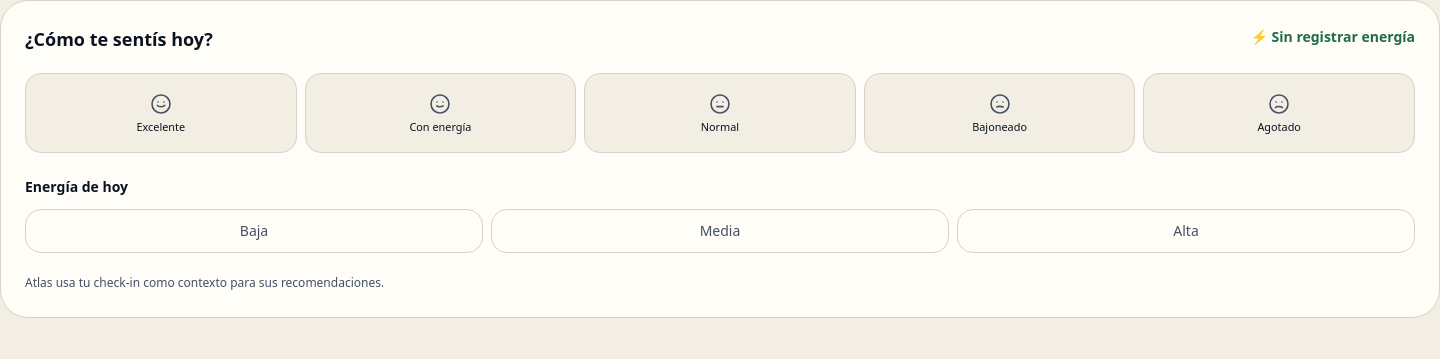
it: MoodEnergyCheckIn › does not fabricate a mood when energy is tapped first
Click the button with aria-label "Seleccionar energía Media" at x=720, y=231, box [491,209,949,253]
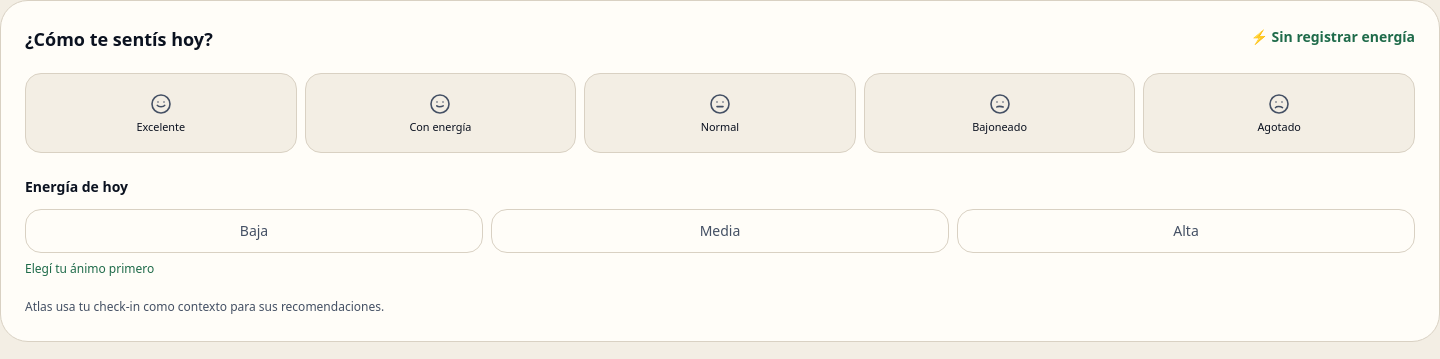
Now the text "Elegí tu ánimo primero" is shown, box [25,260,154,277]
